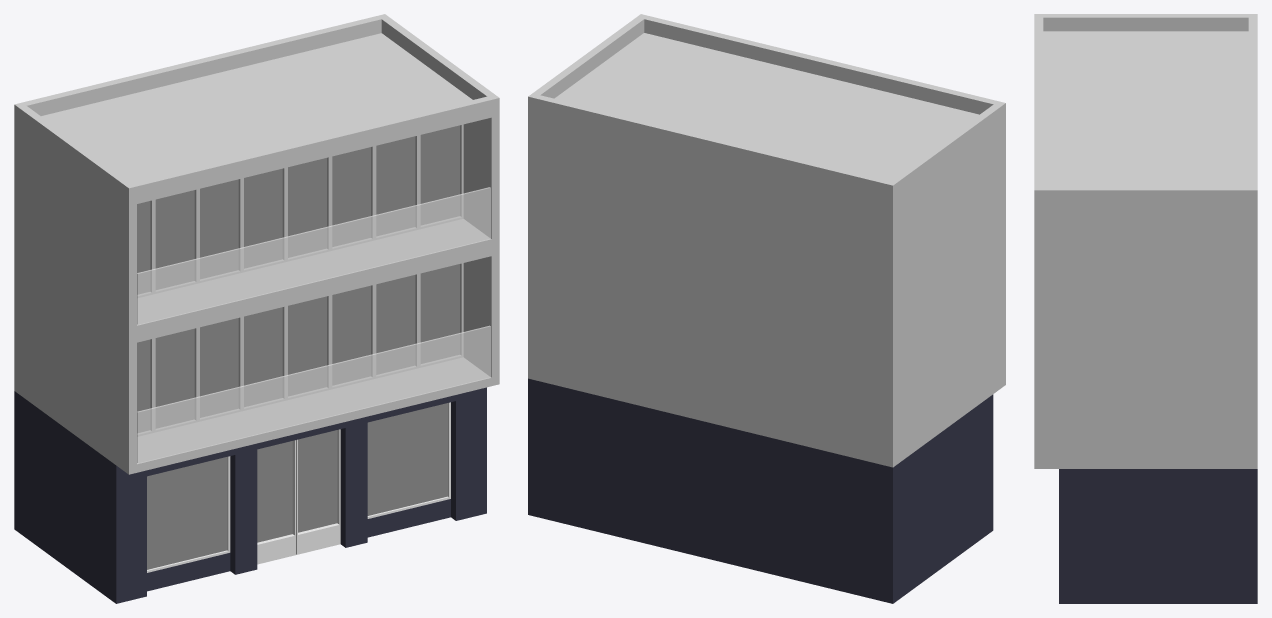
3 views of the same model, side by side, from view 1: azimuth 30°, elevation 25°; view 2: azimuth 150°, elevation 25°; view 3: azimuth 270°, elevation 25° (orthographic). The views are drawn at different scales.
Visible parts, largest first — view 1: Main building, Window glass, Balcony, First floor, Door, Window frames; view 2: Main building, First floor; view 3: Main building, First floor.
Boxes of the visible parts, x1,y1,x2,y2 form: Main building: [14, 14, 499, 474]; Window glass: [137, 125, 459, 569]; Balcony: [137, 187, 490, 463]; First floor: [14, 387, 486, 603]; Door: [257, 429, 340, 564]; Window frames: [147, 402, 450, 572]; Main building: [528, 14, 1005, 467]; First floor: [528, 378, 993, 603]; Main building: [1034, 14, 1257, 468]; First floor: [1059, 469, 1257, 603].
Size of the model in its own units: 0.084 by 0.092 by 0.045.
